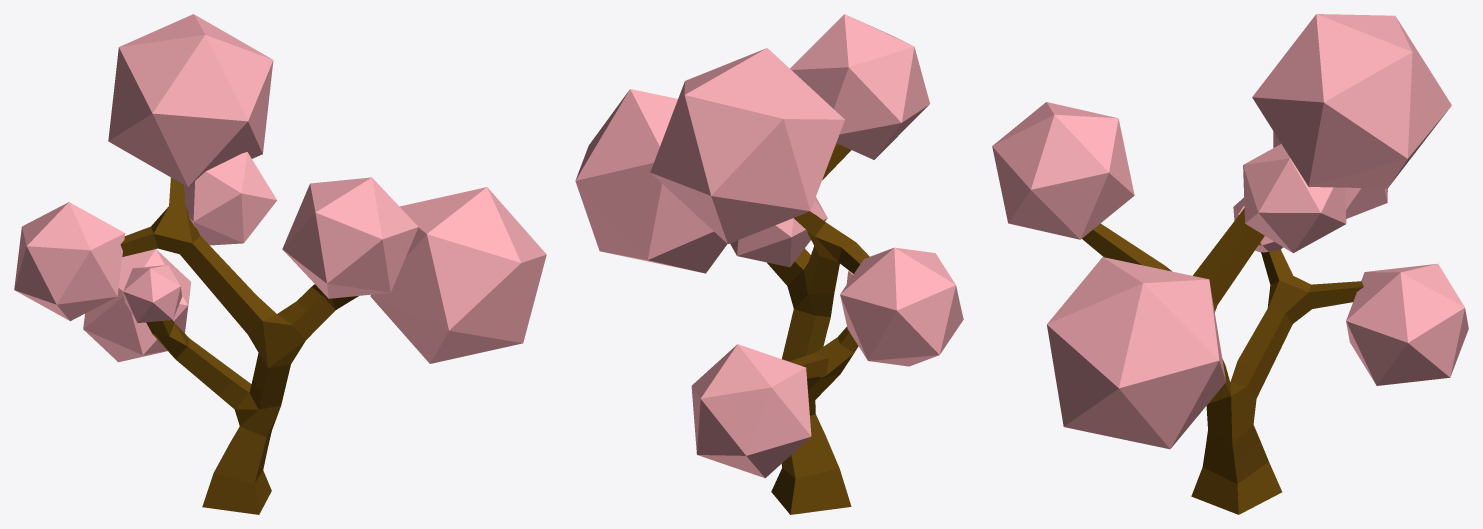
File: cherry_three.fbx
3 renders of one model, left to right at view 1: azimuth 30°, elevation 25°; view 2: azimuth 150°, elevation 25°; view 3: azimuth 270°, elevation 25°, orthographic. The views are drawn at different scales.
Parts seen in each view (by area): view 1: Icosphere.002, Icosphere, Cube, Icosphere.001, Icosphere.003, Icosphere.005, Icosphere.004, Icosphere.006; view 2: Icosphere.002, Icosphere, Cube, Icosphere.004, Icosphere.001, Icosphere.003, Icosphere.005; view 3: Icosphere, Icosphere.002, Cube, Icosphere.001, Icosphere.004, Icosphere.005, Icosphere.003.
Boxes of the visible parts, x1=… form: Icosphere.002: x1=108, y1=14, x2=273, y2=187; Icosphere: x1=370, y1=187, x2=546, y2=363; Cube: x1=120, y1=177, x2=358, y2=514; Icosphere.001: x1=282, y1=177, x2=418, y2=298; Icosphere.003: x1=14, y1=202, x2=125, y2=321; Icosphere.005: x1=184, y1=152, x2=277, y2=245; Icosphere.004: x1=83, y1=249, x2=191, y2=362; Icosphere.006: x1=123, y1=265, x2=182, y2=323; Icosphere.002: x1=650, y1=48, x2=844, y2=243; Icosphere: x1=575, y1=89, x2=727, y2=273; Cube: x1=767, y1=143, x2=869, y2=514; Icosphere.004: x1=691, y1=344, x2=811, y2=478; Icosphere.001: x1=790, y1=14, x2=929, y2=159; Icosphere.003: x1=840, y1=247, x2=963, y2=366; Icosphere.005: x1=730, y1=197, x2=827, y2=267; Icosphere: x1=1047, y1=257, x2=1225, y2=449; Icosphere.002: x1=1252, y1=14, x2=1451, y2=188; Cube: x1=1082, y1=208, x2=1363, y2=514; Icosphere.001: x1=992, y1=102, x2=1134, y2=239; Icosphere.004: x1=1346, y1=263, x2=1468, y2=385; Icosphere.005: x1=1243, y1=144, x2=1346, y2=253; Icosphere.003: x1=1273, y1=131, x2=1387, y2=218.
Size of the model in its own units: 708 by 693 by 619.
